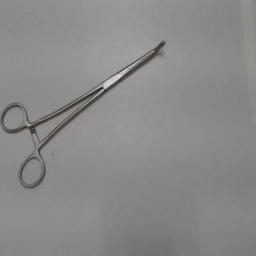Lahey Forceps: (2, 35, 170, 193)
